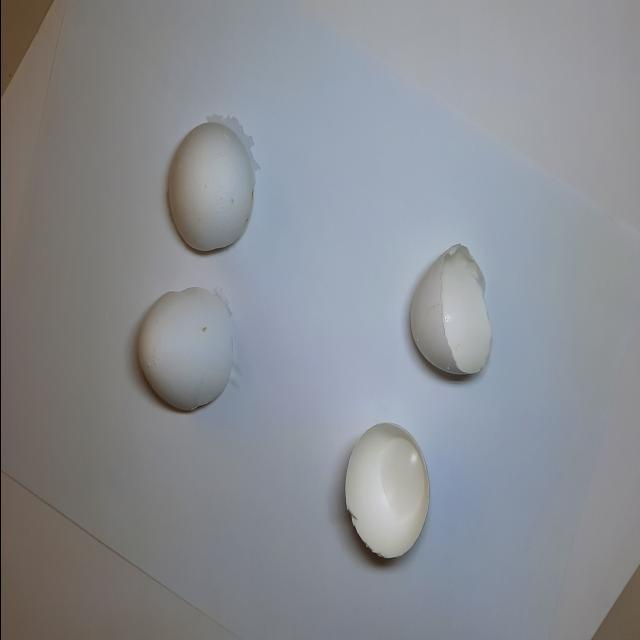egg shell: (162, 100, 268, 262), (131, 278, 247, 416), (337, 415, 435, 567), (404, 235, 494, 382)
